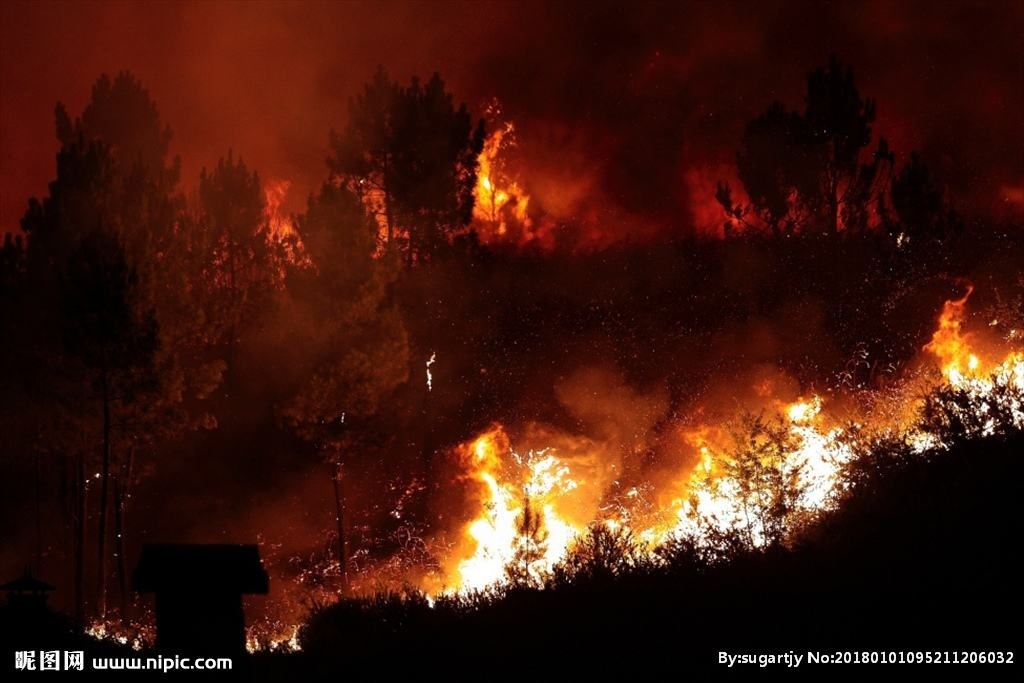fire: (458, 108, 537, 242), (246, 622, 301, 651)
